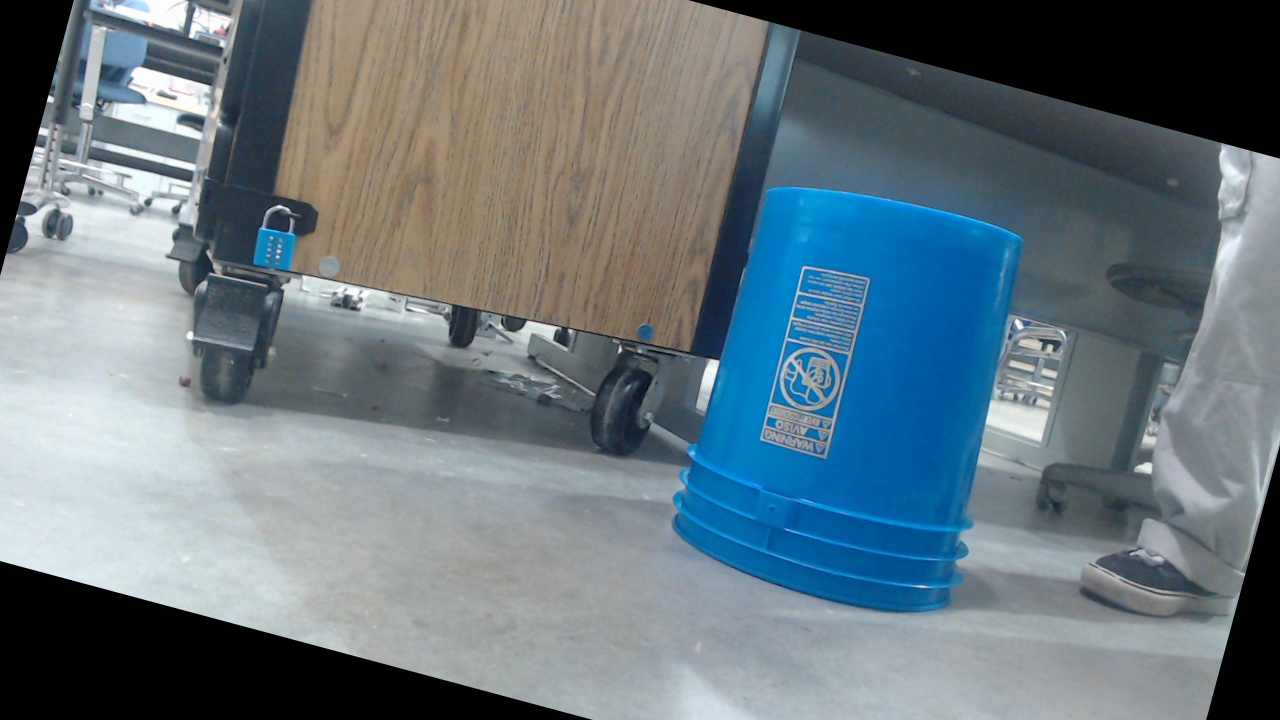blue_bucket: (648, 45, 1055, 529)
